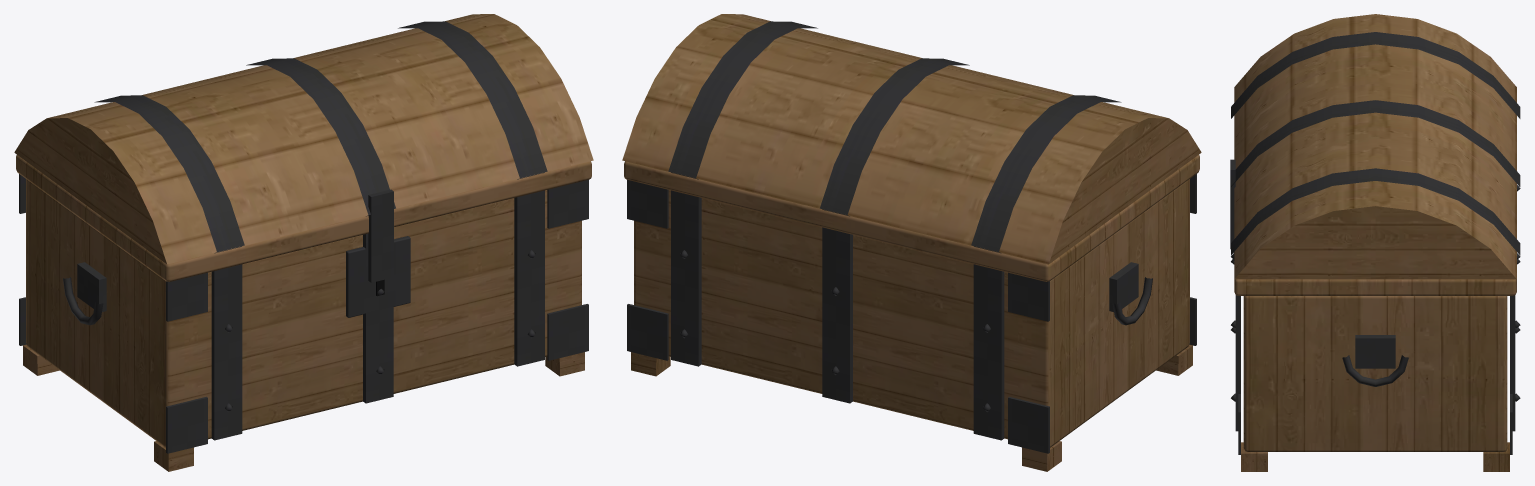
File: prop_chestWood.glb
3 renders of one model, left to right at view 1: azimuth 30°, elevation 25°; view 2: azimuth 150°, elevation 25°; view 3: azimuth 270°, elevation 25°, orthographic. The views are drawn at different scales.
Visible parts, largest first — view 1: prop; view 2: prop; view 3: prop.
Part boxes in pixels (x1,y1,x2,y2): prop: (14,14,593,471); prop: (622,14,1201,471); prop: (1230,14,1520,471).
Bounding box in the file's own units: 0.7114 × 0.446 × 0.4317.
Materials: 2 (2 with a texture image).
